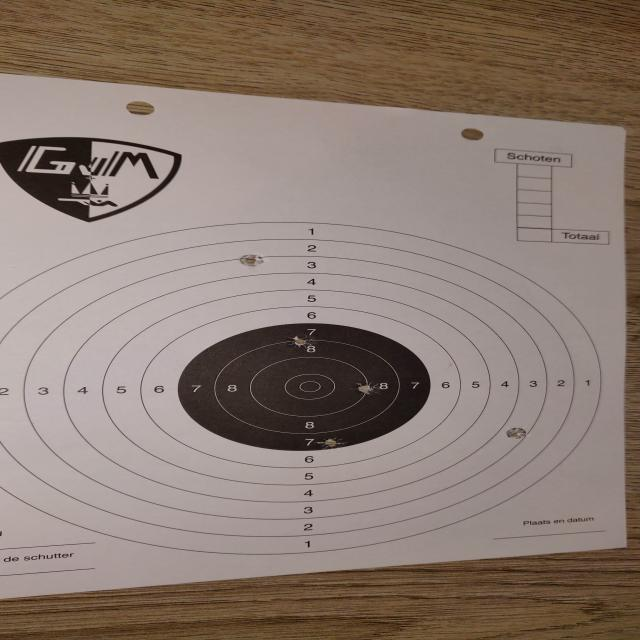3: (238, 253, 268, 267), (504, 427, 529, 439)
7: (314, 437, 349, 450)
8: (284, 334, 320, 349)
9: (351, 382, 380, 396)
Target: (5, 221, 610, 556)
black_contour: (179, 322, 431, 452)
